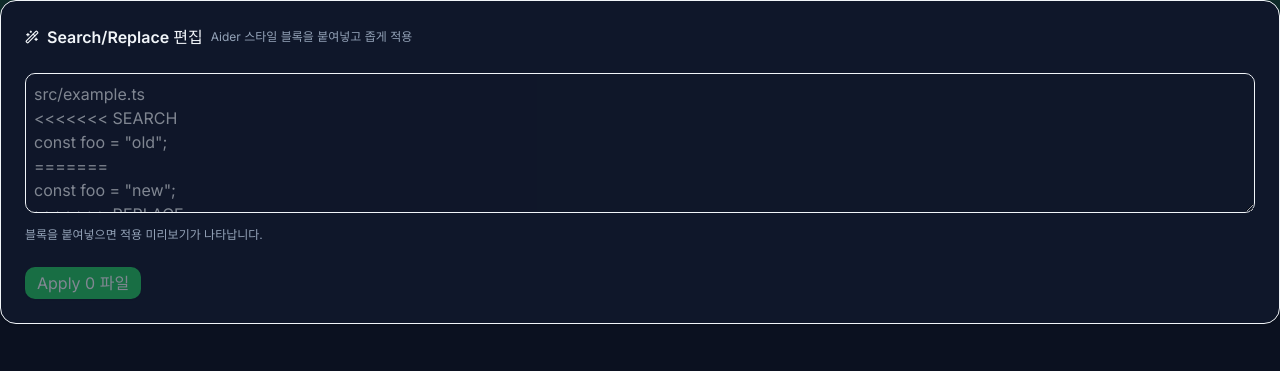
SearchReplaceEditCard — OSS-H4 bridge UI › (E2) 텍스트 입력 → 미리보기 카드 + 적용 1개 배지
Replace the text in the text box with test id "search-replace-edit-textarea-m2" with "a.ts <<<<<<< SEARCH const x = 1; ======= const x = 2; >>>>>>> REPLACE". click: point(640, 143)
box: [25,73,1255,213]
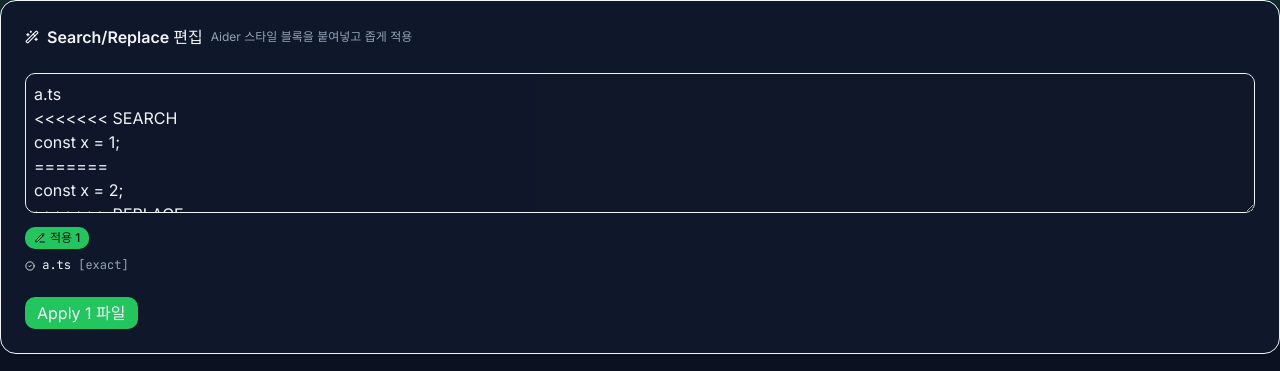
Expected: the element with test id "search-replace-edit-stats-applied-m2" shows "1", [75,230,80,245]
